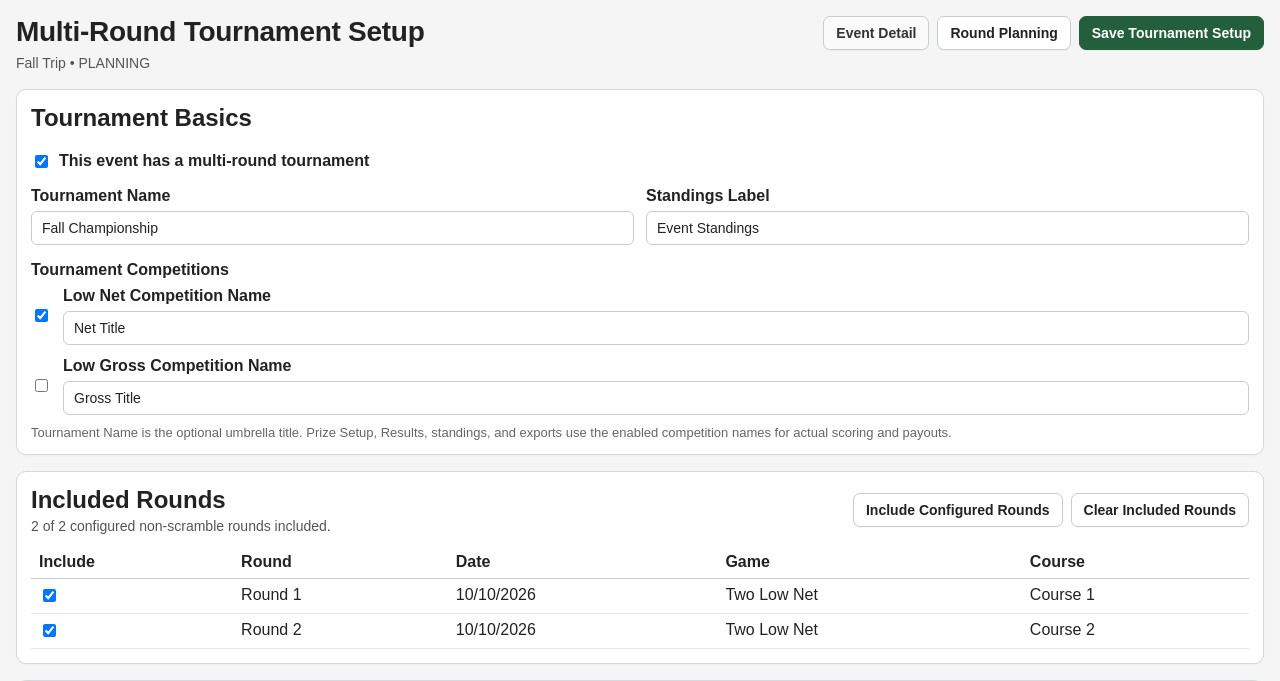
Trip tournament setup page characterization (before extraction) › saves trimmed names and the selected rounds
Check: the heading "Tournament Basics" is shown, box [31,104,252,131]
Replace the text in the field labelled "Tournament Name" with "  New Title  " at coordinates (332, 228), box [31,211,634,245]
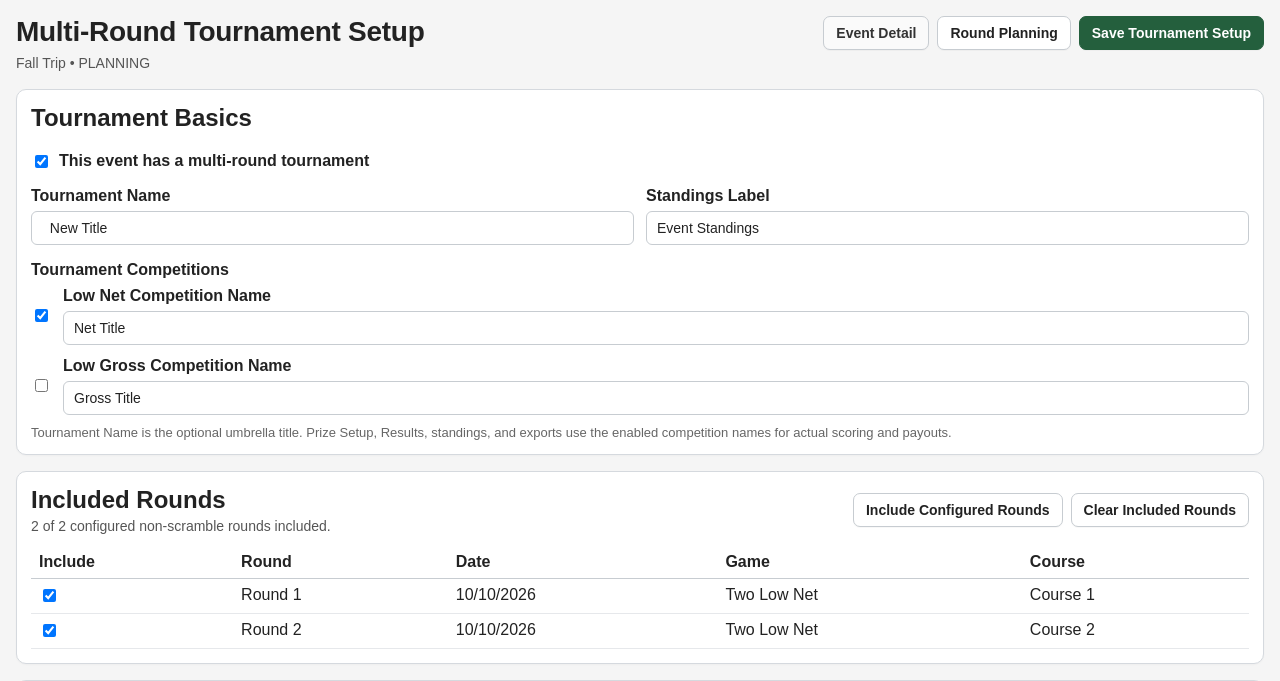
Replace the text in the field labelled "Standings Label" with "  New Standings  " at coordinates (948, 228), box [646,211,1249,245]
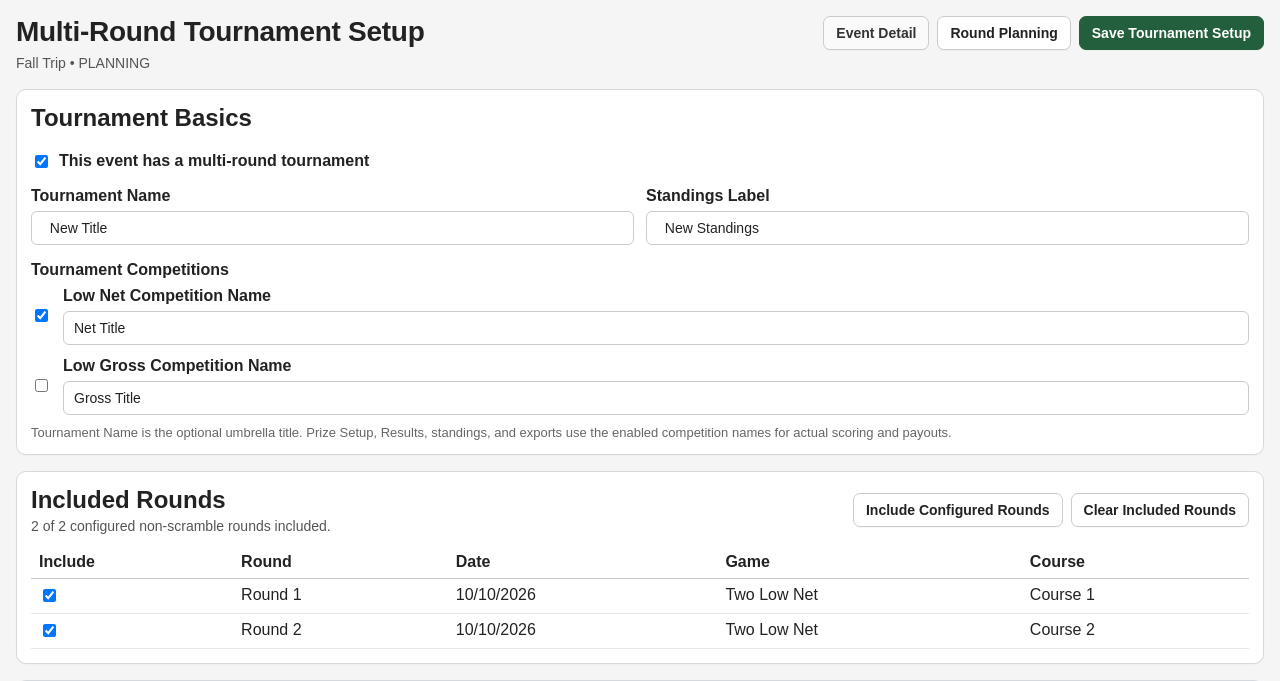
Click the button "Save Tournament Setup" in the row of "Multi-Round Tournament Setup" at coordinates (1171, 33), box [1079,16,1264,50]
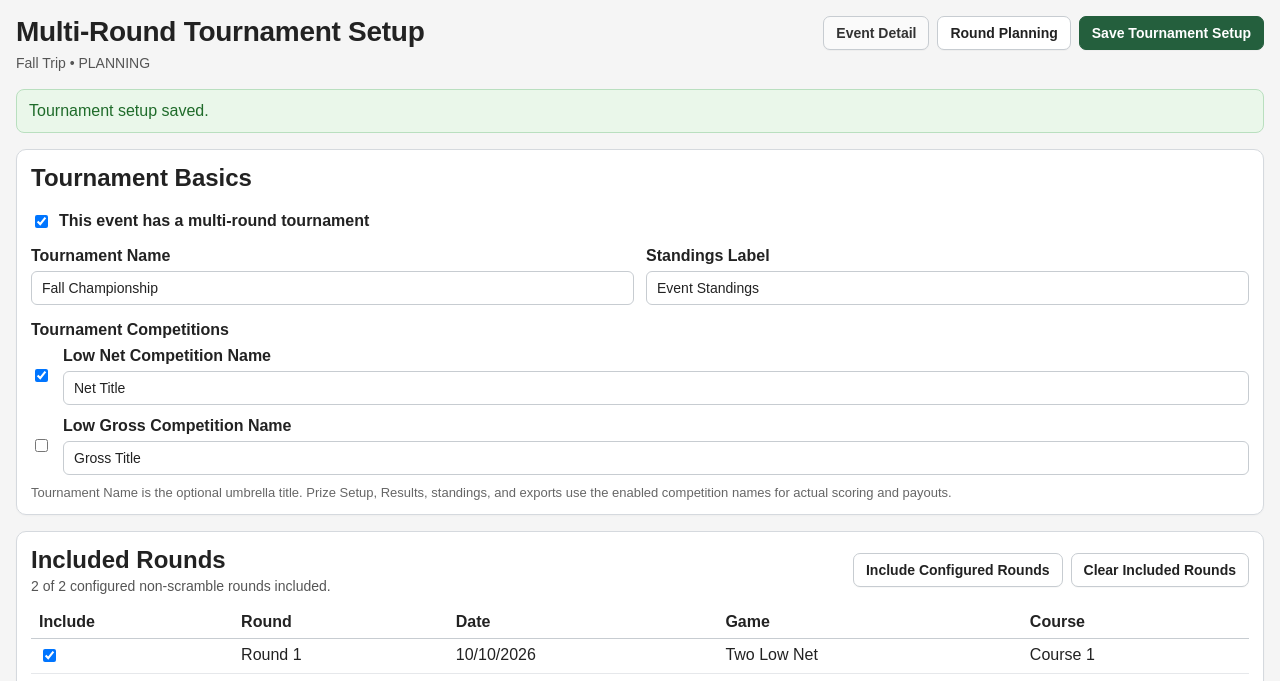
Check: the text "Tournament setup saved." is shown, box [16,89,1264,133]
